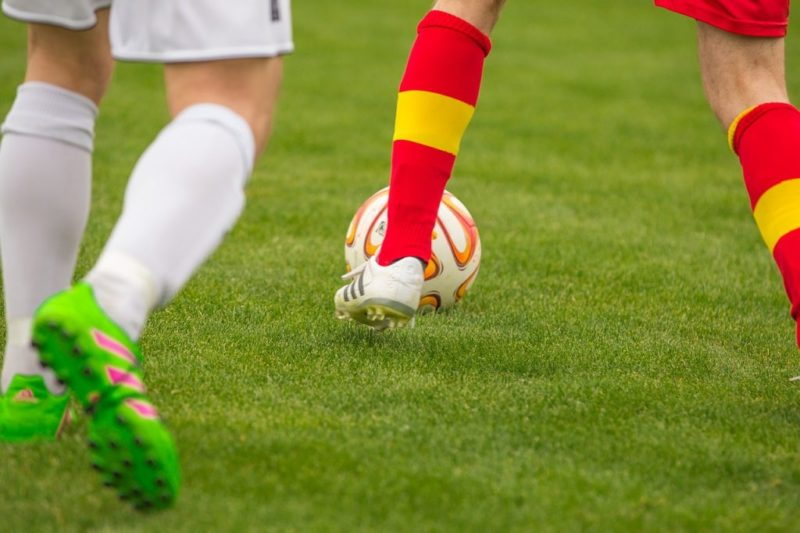football boots: (30, 284, 179, 513), (334, 256, 423, 331), (2, 372, 82, 445)
